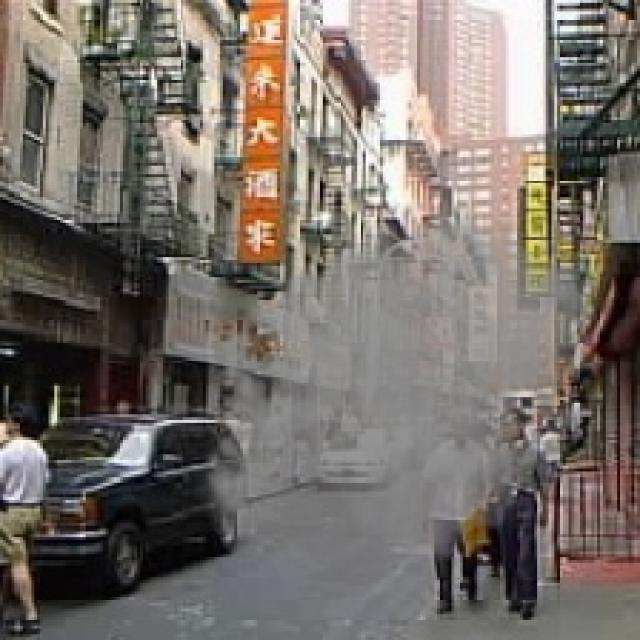smoke: (192, 192, 597, 617)
